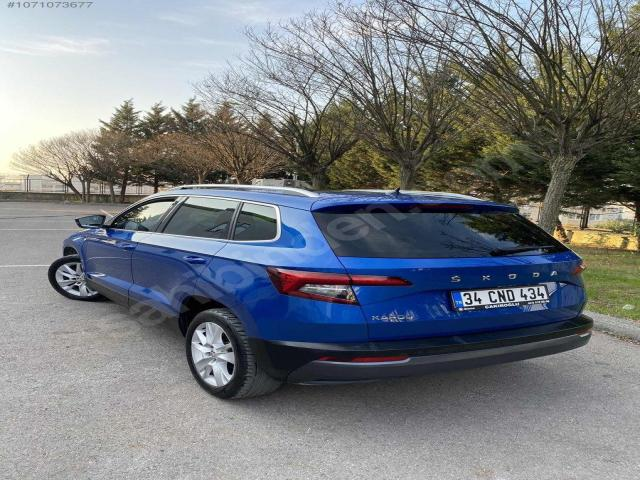plaka: (451, 284, 549, 311)
